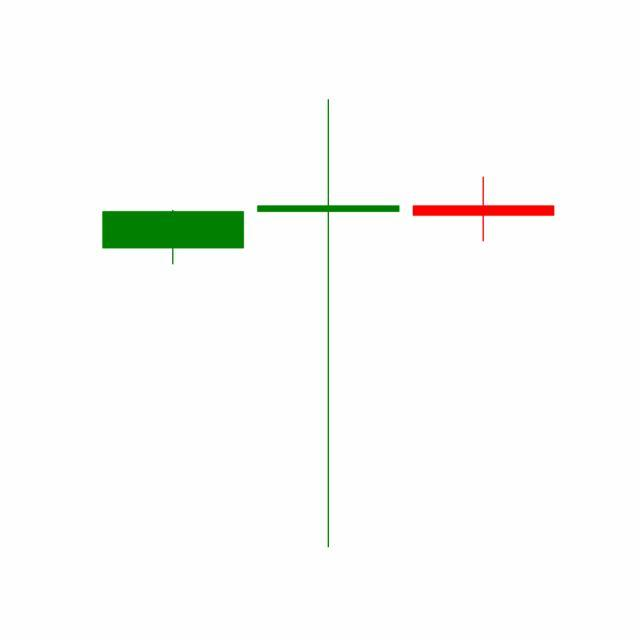Spinning Top: (406, 176, 562, 243)
